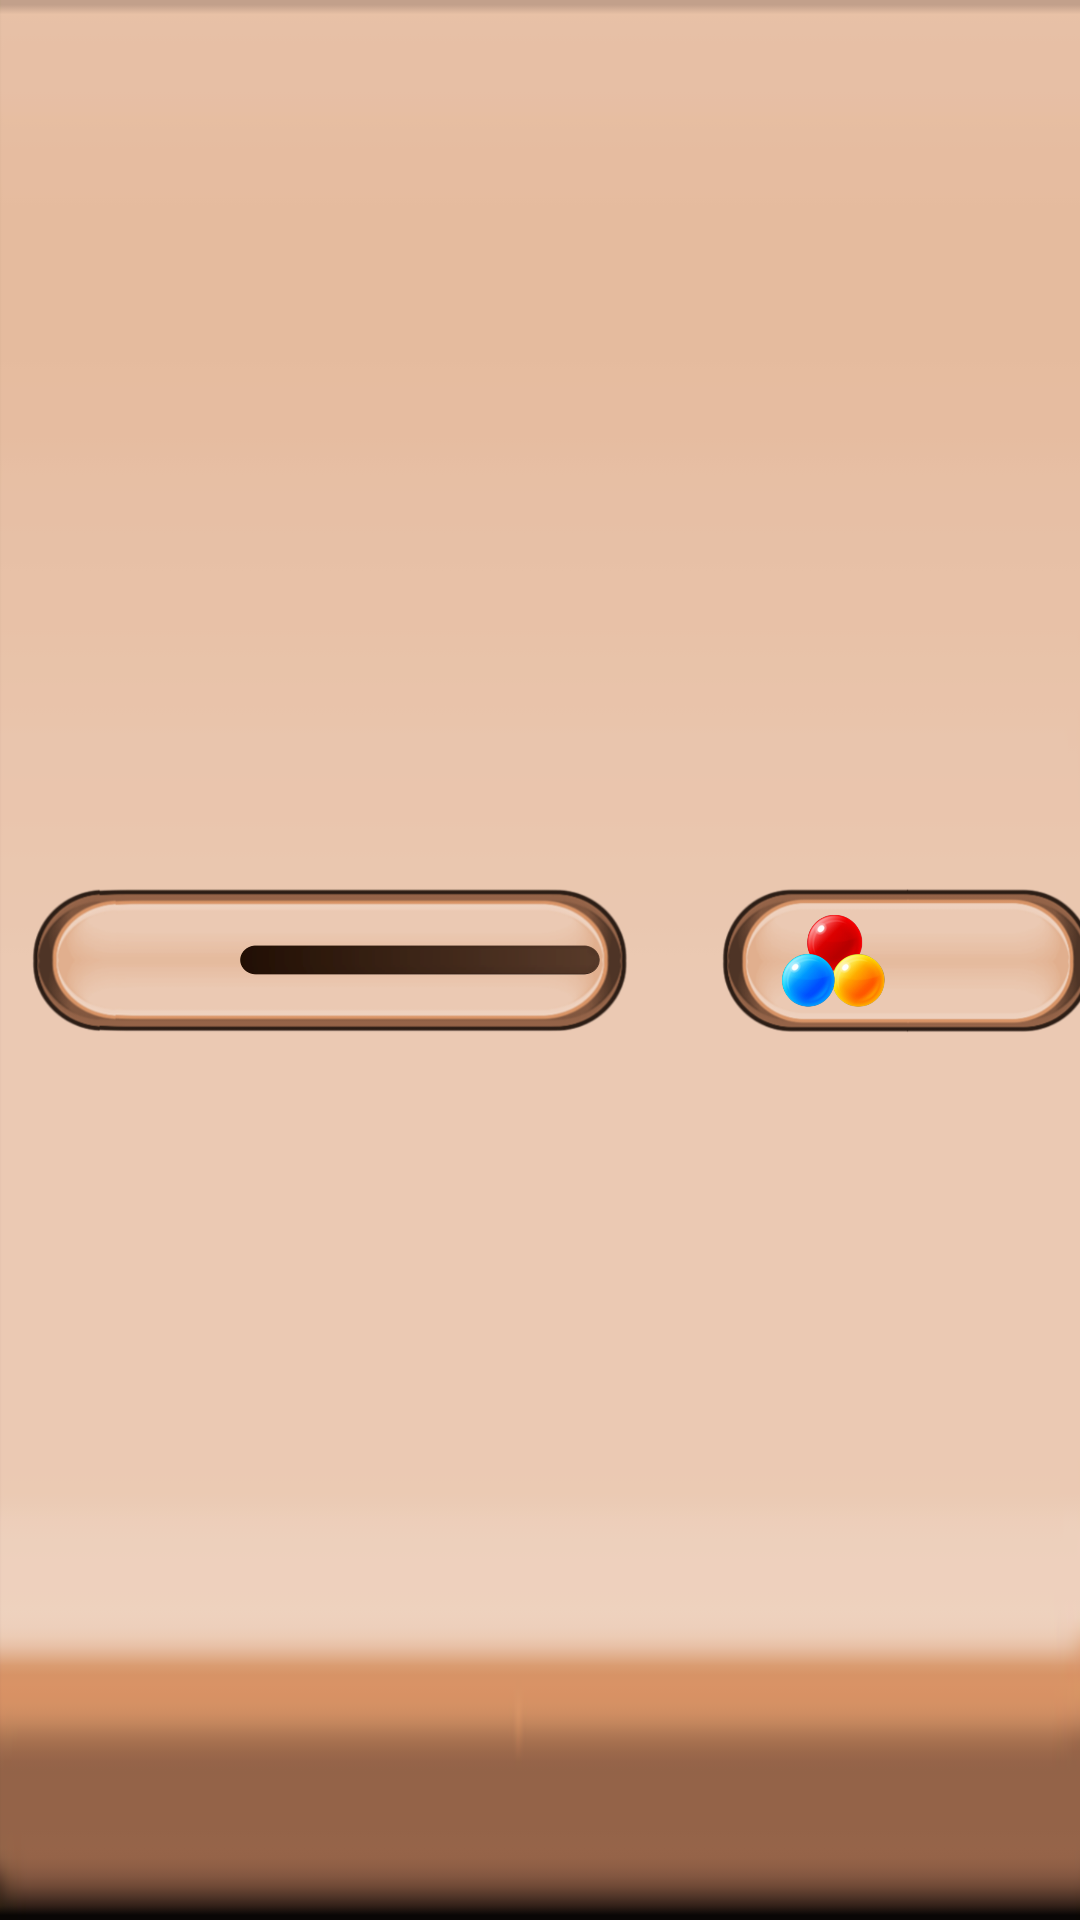

Icons on this 1080 × 1920 Android screen, each with the point to tap as (x,y):
target pop: (833,960)
